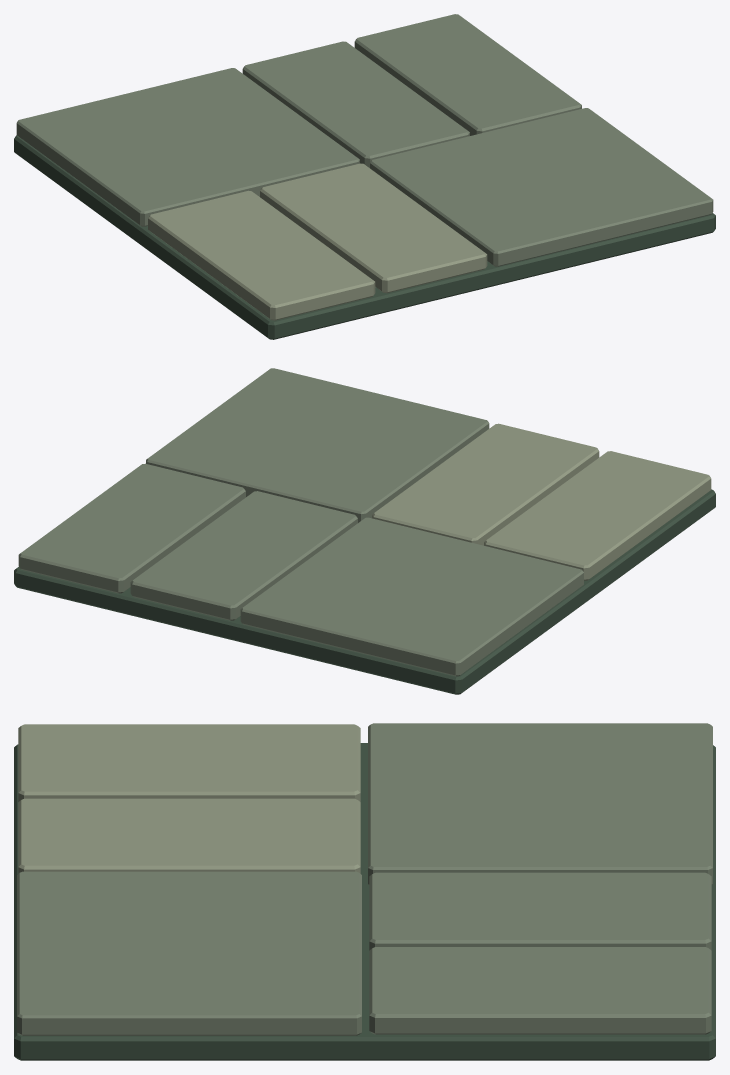
The model's file is floor-cracked.glb.
The picture shows the model from 3 angles, top to bottom: view 1: azimuth 30°, elevation 25°; view 2: azimuth 150°, elevation 25°; view 3: azimuth 270°, elevation 25°; orthographic projection. The views are drawn at different scales.
Parts seen in each view (by area): view 1: floor-cracked__body; view 2: floor-cracked__body; view 3: floor-cracked__body.
Part boxes in pixels (box(x1,y1,x2,y2)): floor-cracked__body: box(14, 14, 715, 339); floor-cracked__body: box(14, 368, 715, 694); floor-cracked__body: box(14, 723, 715, 1060).
Size of the model in its own units: 2 by 0.14 by 2.
